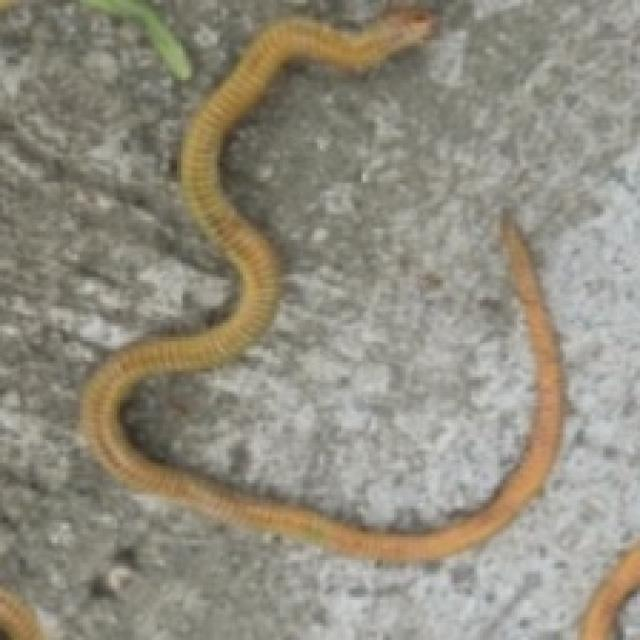gervais worm snake: (80, 9, 560, 560), (581, 546, 640, 640)
